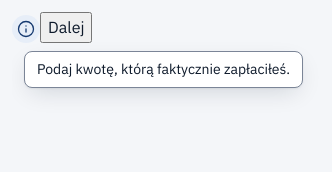
Test: Tooltip › pins on a mouse click and unpins on the next click
Step 1. Click the button named "Więcej o cenie biletu" → (26, 29), box [12,15,40,43]
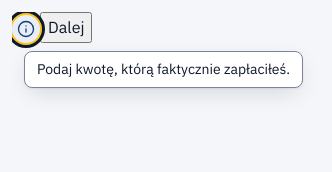
expect the tooltip "Podaj kwotę, którą faktycznie zapłaciłeś." is shown: met, box [24,51,303,88]
expect the tooltip reads "Podaj kwotę, którą faktycznie zapłaciłeś.": met, box [37,60,290,78]
Pinned: leaving with the pointer does not close it.
Step 2. Move the pointer off the button named "Więcej o cenie biletu", box [12,15,40,43]
expect the tooltip "Podaj kwotę, którą faktycznie zapłaciłeś." is shown: met, box [24,51,303,88]
expect the tooltip reads "Podaj kwotę, którą faktycznie zapłaciłeś.": met, box [37,60,290,78]
Step 3. Click the button named "Więcej o cenie biletu" → (26, 29), box [12,15,40,43]
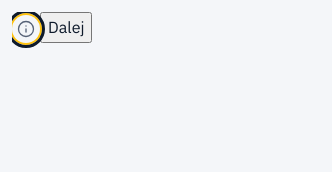
expect the tooltip "Podaj kwotę, którą faktycznie zapłaciłeś." is gone: met
